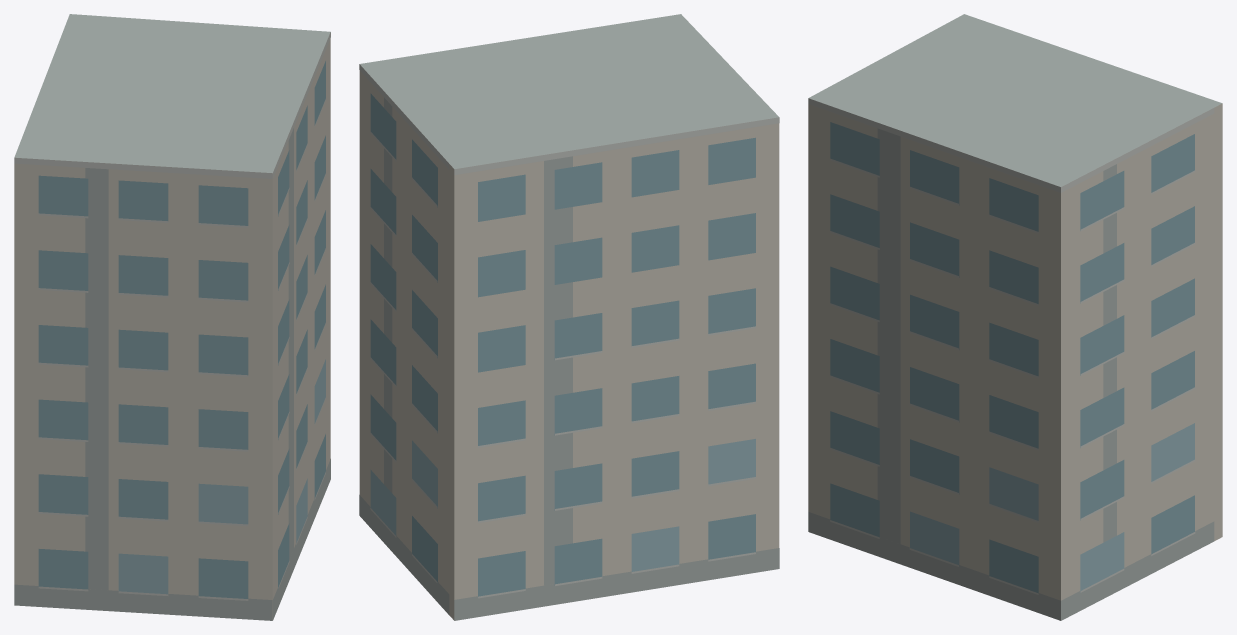
The model's file is survey-upis-32886983.glb.
The picture shows the model from 3 angles, left to right: view 1: azimuth 30°, elevation 25°; view 2: azimuth 150°, elevation 25°; view 3: azimuth 270°, elevation 25°; orthographic projection. The views are drawn at different scales.
Parts seen in each view (by area): view 1: survey-upis-32886983.tmp; view 2: survey-upis-32886983.tmp; view 3: survey-upis-32886983.tmp.
Boxes of the visible parts, x1,y1,x2,y2 form: survey-upis-32886983.tmp: [14, 14, 330, 620]; survey-upis-32886983.tmp: [359, 14, 779, 620]; survey-upis-32886983.tmp: [808, 14, 1222, 620].
Bounding box in the file's own units: 15.77 × 18.4 × 15.94.
